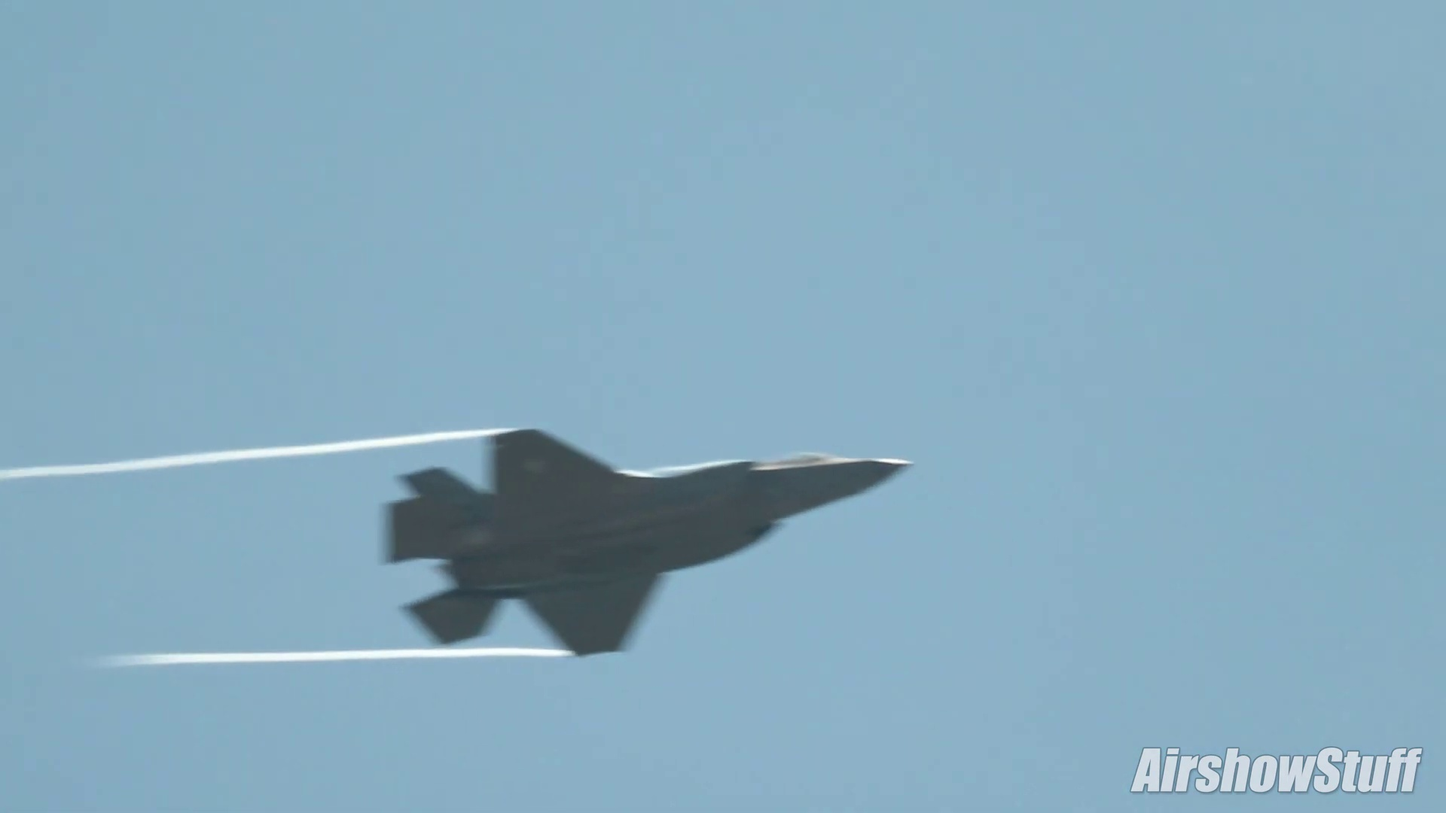F35: (369, 403, 923, 667)
